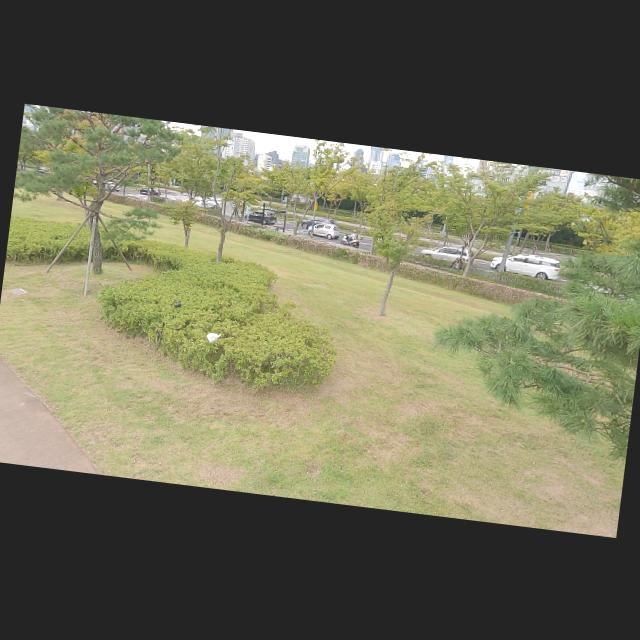trash: (206, 329, 220, 343), (174, 299, 182, 308)
